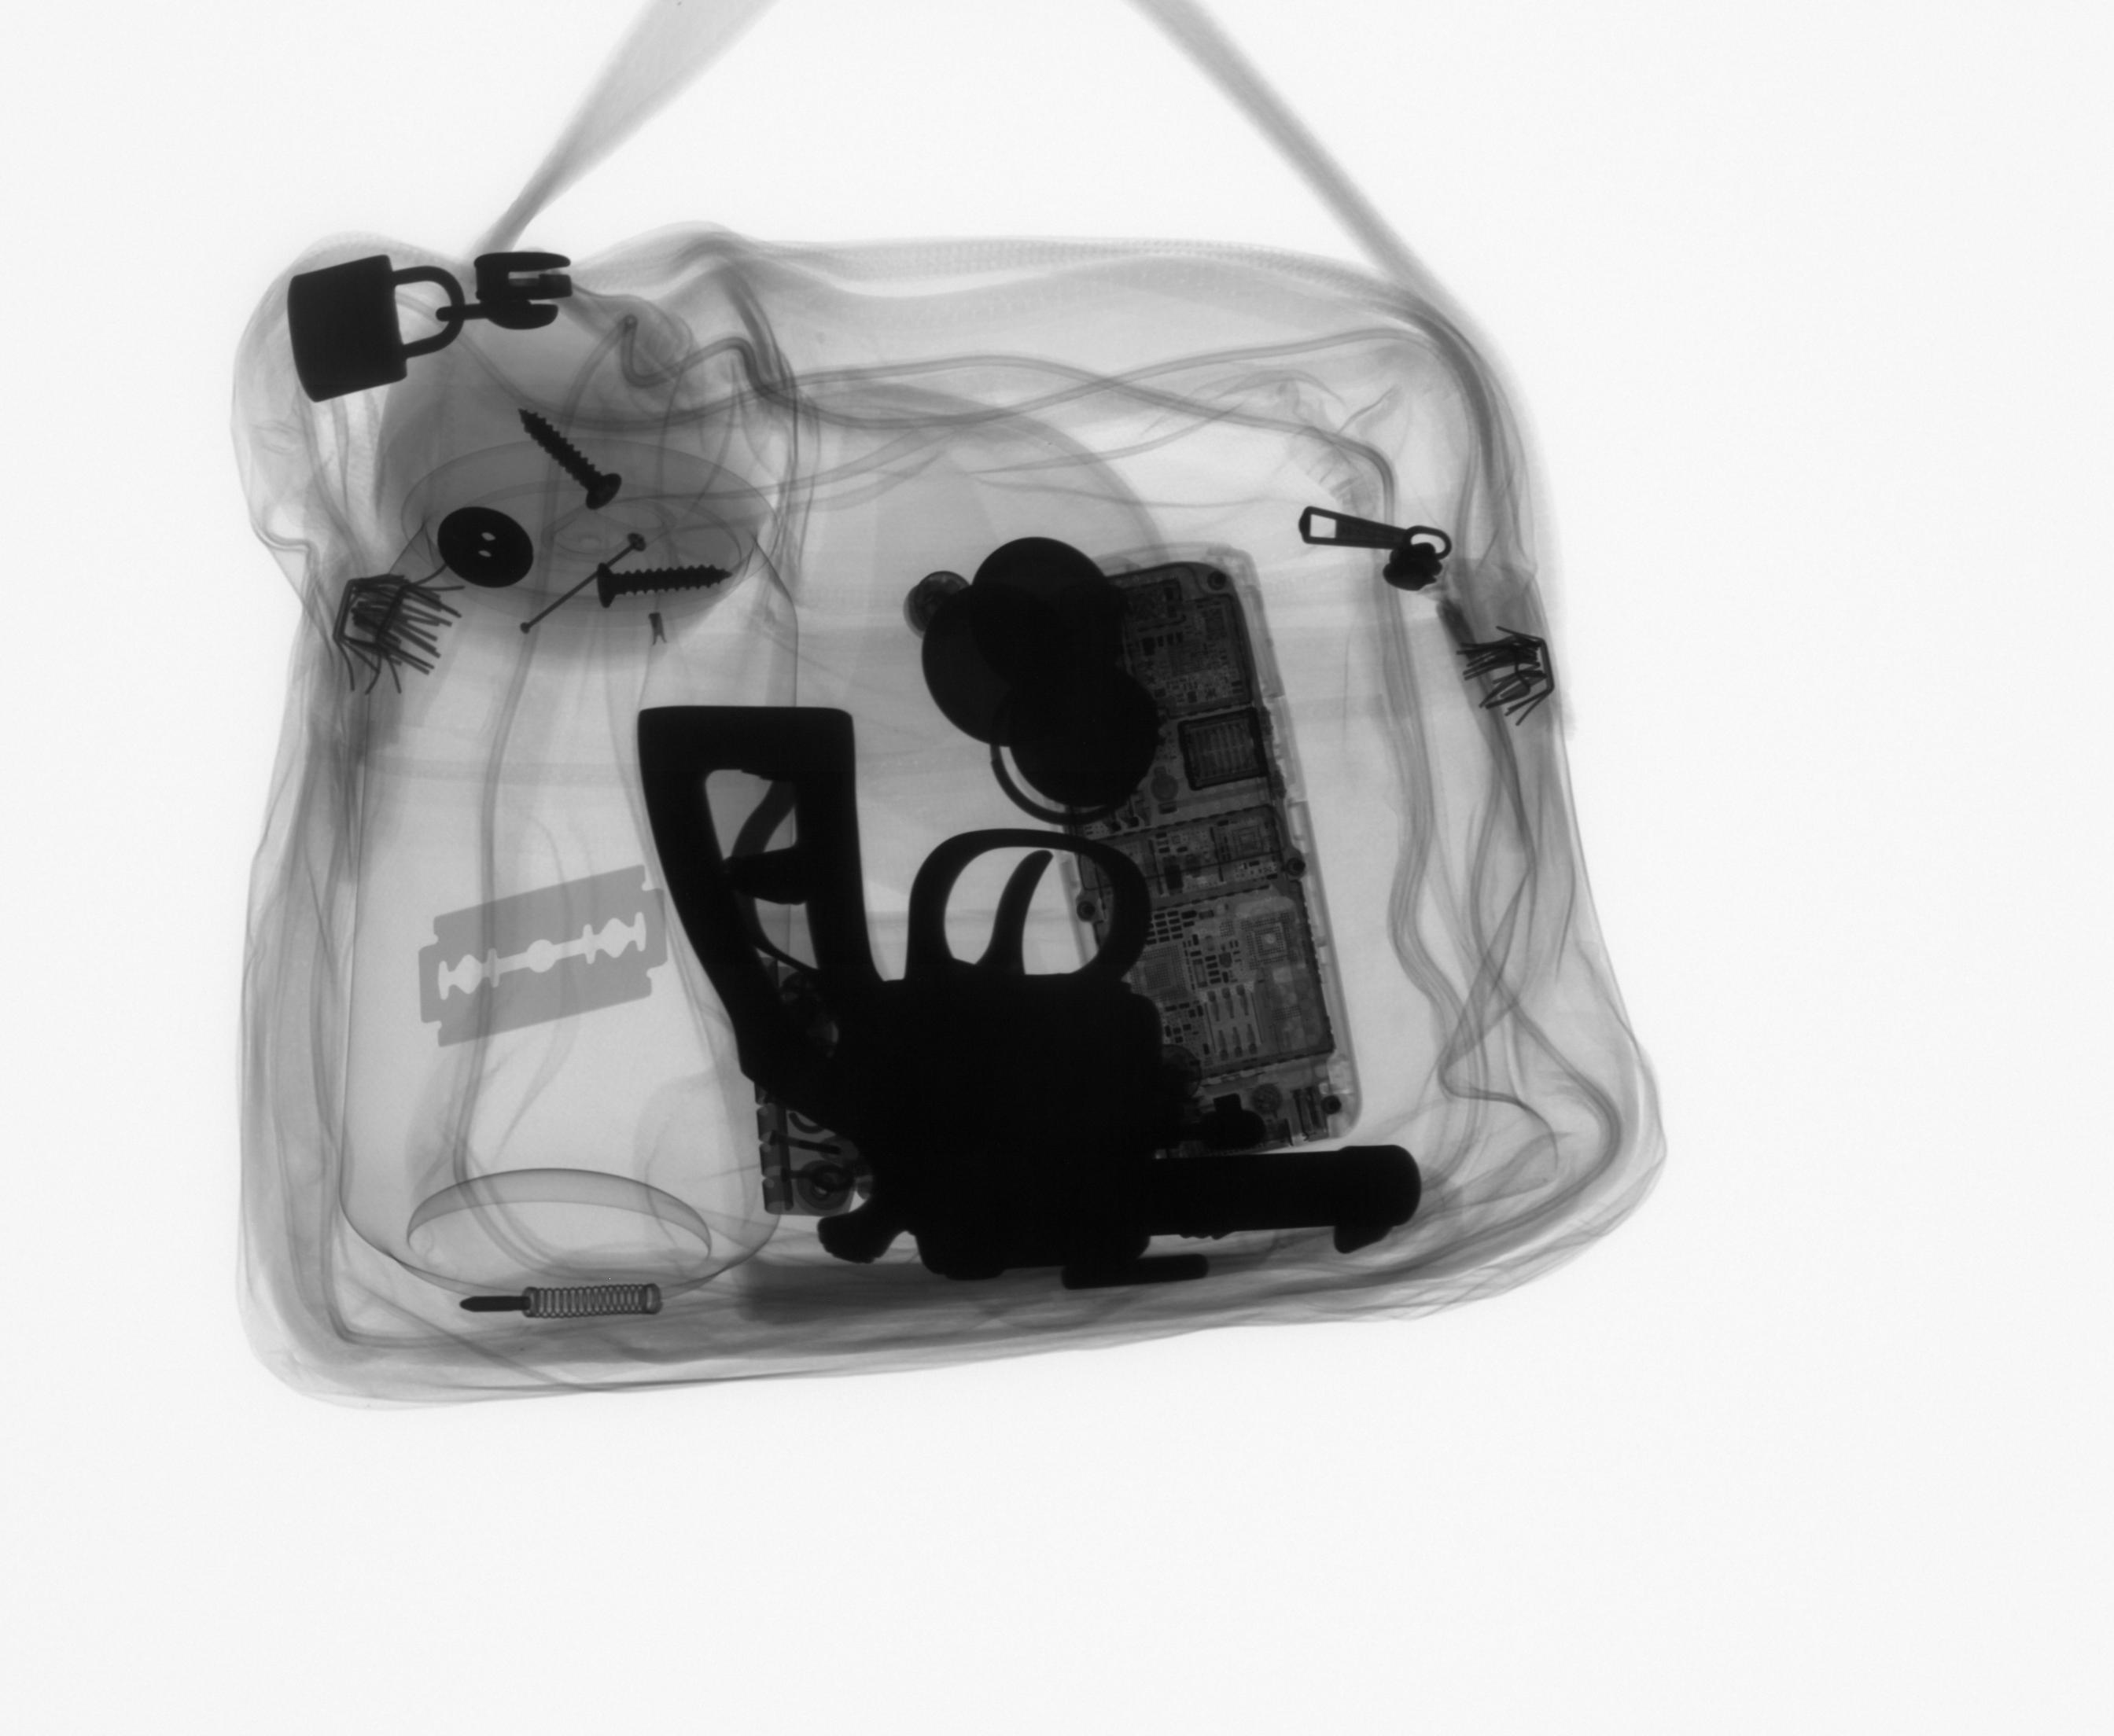Handgun: (627, 697, 1431, 1294)
RazorBlade: (411, 858, 674, 1055)
